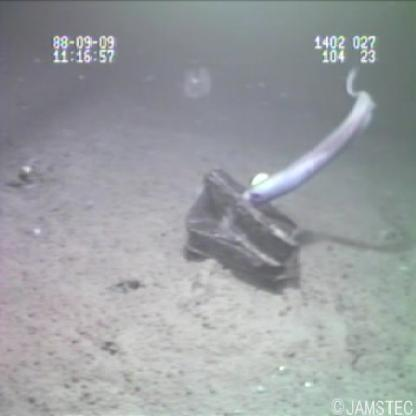Bio: (240, 62, 381, 212)
Rác: (179, 163, 304, 295)
